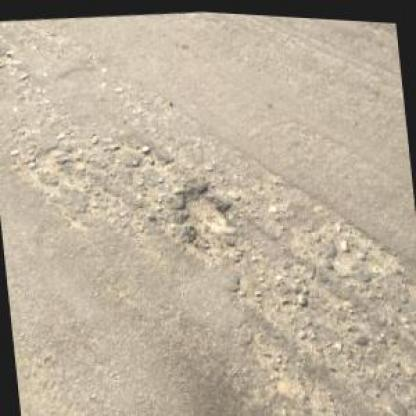pothole: (176, 178, 240, 255), (133, 137, 173, 176)
